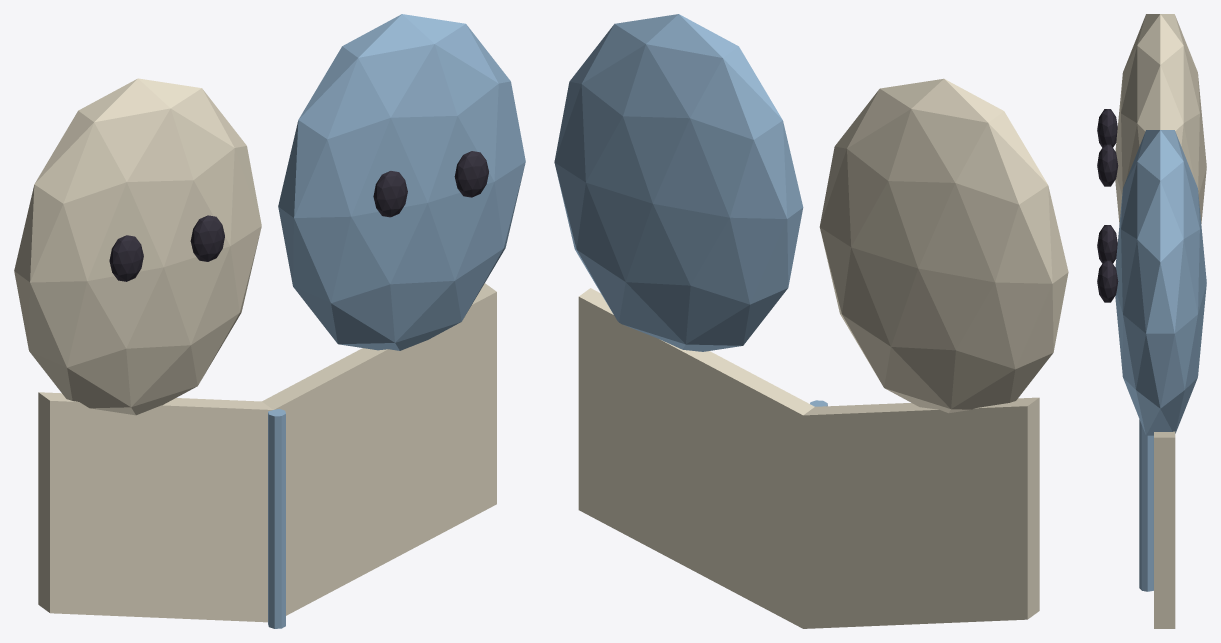
The model's file is two-heads.glb.
The picture shows the model from 3 angles, left to right: view 1: azimuth 30°, elevation 25°; view 2: azimuth 150°, elevation 25°; view 3: azimuth 270°, elevation 25°; orthographic projection. The views are drawn at different scales.
Visible parts, largest first — view 1: Friendly ghost head.002, Friendly ghost head.003, Friendly eye.004, Book spine.001; view 2: Friendly ghost head.002, Friendly ghost head.003; view 3: Friendly ghost head.003, Friendly ghost head.002, Friendly eye.004, Book spine.001.
Part boxes in pixels (x1,y1,x2,y2): Friendly ghost head.002: [14, 78, 496, 622]; Friendly ghost head.003: [278, 14, 525, 350]; Friendly eye.004: [109, 151, 488, 281]; Book spine.001: [268, 409, 285, 628]; Friendly ghost head.002: [578, 78, 1068, 628]; Friendly ghost head.003: [554, 14, 803, 351]; Friendly ghost head.003: [1115, 130, 1206, 435]; Friendly ghost head.002: [1115, 14, 1206, 628]; Friendly eye.004: [1097, 109, 1118, 302]; Book spine.001: [1139, 419, 1153, 591].
Bounding box in the file's own units: 0.0244 × 0.027 × 0.0052.
